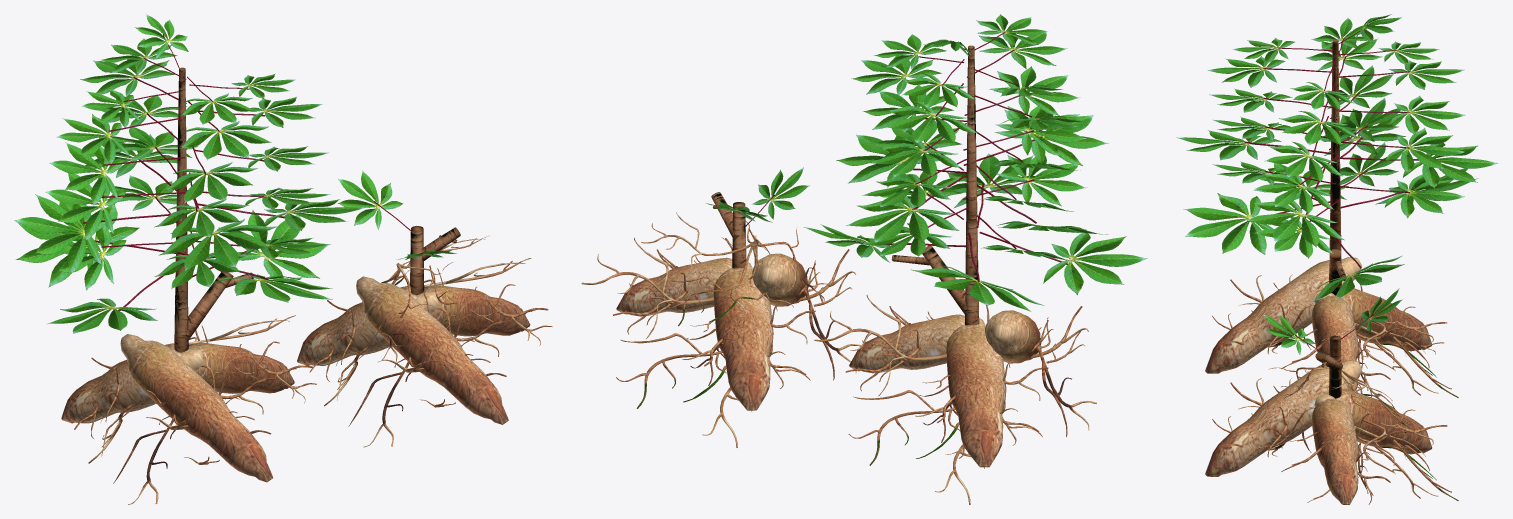
Rendered from ubikayu.glb.
The picture shows the model from 3 angles, left to right: view 1: azimuth 30°, elevation 25°; view 2: azimuth 150°, elevation 25°; view 3: azimuth 270°, elevation 25°; orthographic projection. The views are drawn at different scales.
Parts seen in each view (by area): view 1: Plane.107_Material.022_0, Mball.013_Material.015_0; view 2: Mball.013_Material.015_0, Plane.107_Material.022_0; view 3: Plane.107_Material.022_0, Mball.013_Material.015_0.
Boxes of the visible parts, x1,y1,x2,y2 form: Plane.107_Material.022_0: [14, 14, 456, 333]; Mball.013_Material.015_0: [61, 67, 552, 504]; Mball.013_Material.015_0: [581, 45, 1096, 504]; Plane.107_Material.022_0: [705, 14, 1147, 311]; Plane.107_Material.022_0: [1176, 14, 1498, 354]; Mball.013_Material.015_0: [1205, 39, 1458, 504].
Size of the model in its own units: 2 by 1.67 by 1.22.
Materials: 1 (1 with a texture image).
